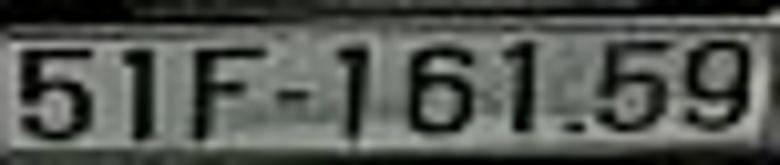-: (271, 84, 317, 108)
.: (562, 115, 587, 145)
1: (331, 44, 374, 143), (121, 42, 161, 144), (499, 38, 539, 136)
5: (15, 42, 100, 141), (596, 39, 675, 140)
6: (401, 39, 478, 138)
9: (684, 38, 756, 136)
F: (183, 38, 269, 145)
